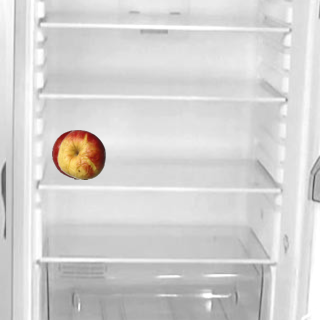Apple Braeburn: (51, 129, 101, 179)
Apple Red Yellow 1: (56, 129, 106, 179)
